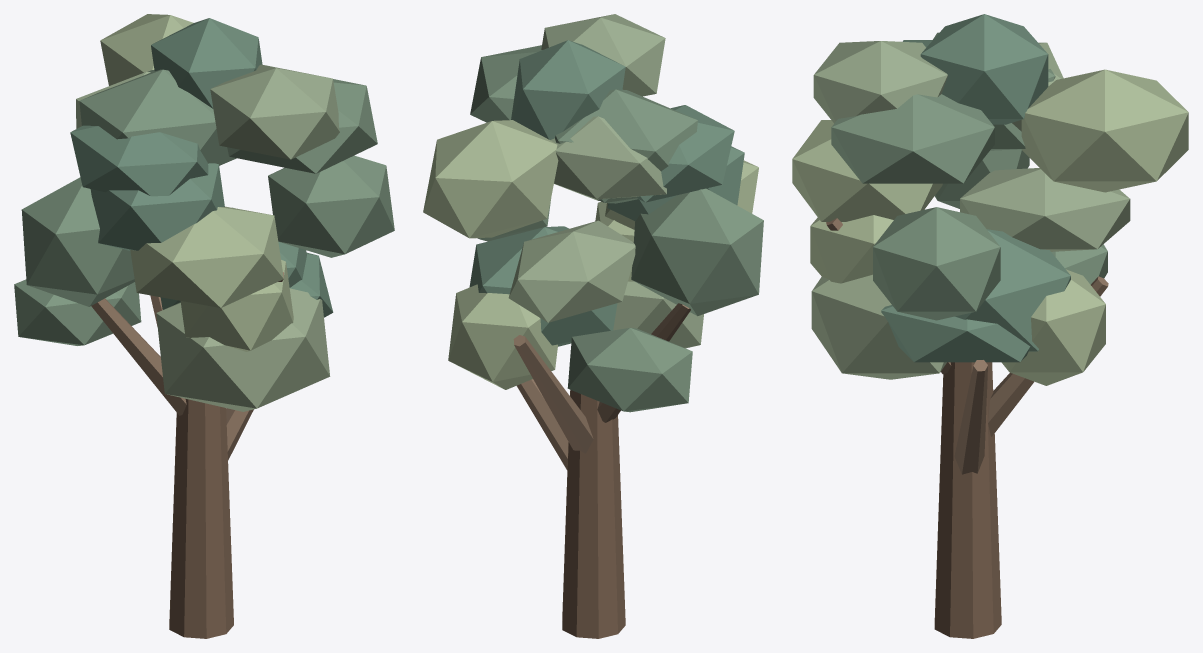
File: OutdoorOliveTree_B.fbx
3 renders of one model, left to right at view 1: azimuth 30°, elevation 25°; view 2: azimuth 150°, elevation 25°; view 3: azimuth 270°, elevation 25°, orthographic. The views are drawn at different scales.
Parts seen in each view (by area): view 1: OutdoorOliveTree_B; view 2: OutdoorOliveTree_B; view 3: OutdoorOliveTree_B.
Part boxes in pixels (left/top/right/bottom): OutdoorOliveTree_B: left=14, top=14, right=394, bottom=638; OutdoorOliveTree_B: left=423, top=14, right=763, bottom=638; OutdoorOliveTree_B: left=792, top=14, right=1188, bottom=638.
Bounding box in the file's own units: 261 × 435 × 252.
